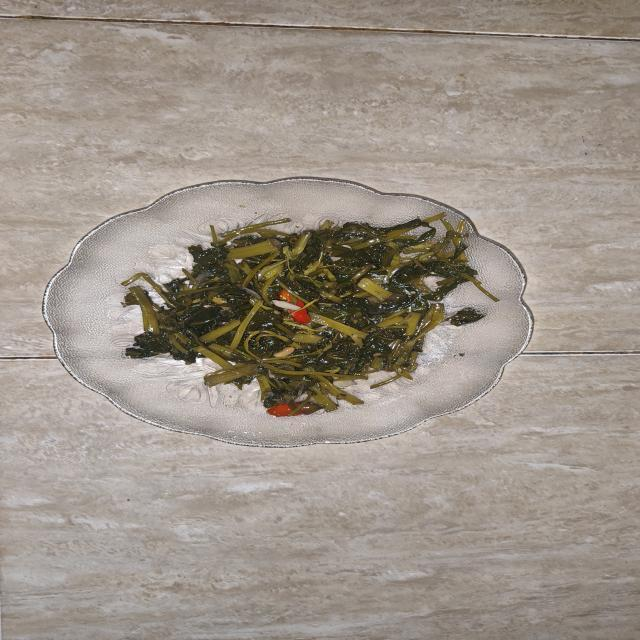tumis_kangkung: (125, 212, 476, 416)
